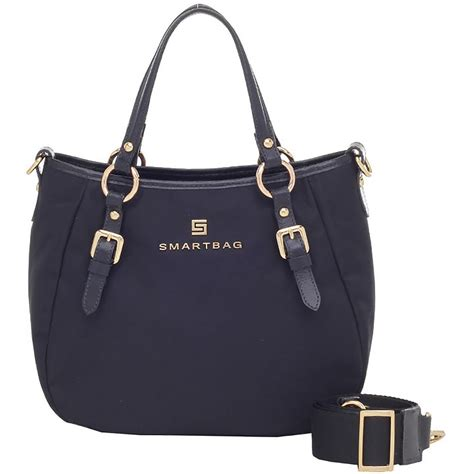nylon: (25, 183, 378, 438)
